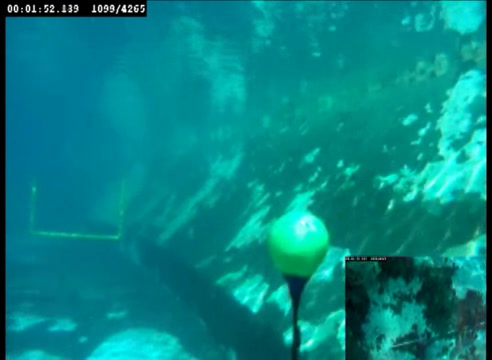channel: (24, 181, 129, 243)
